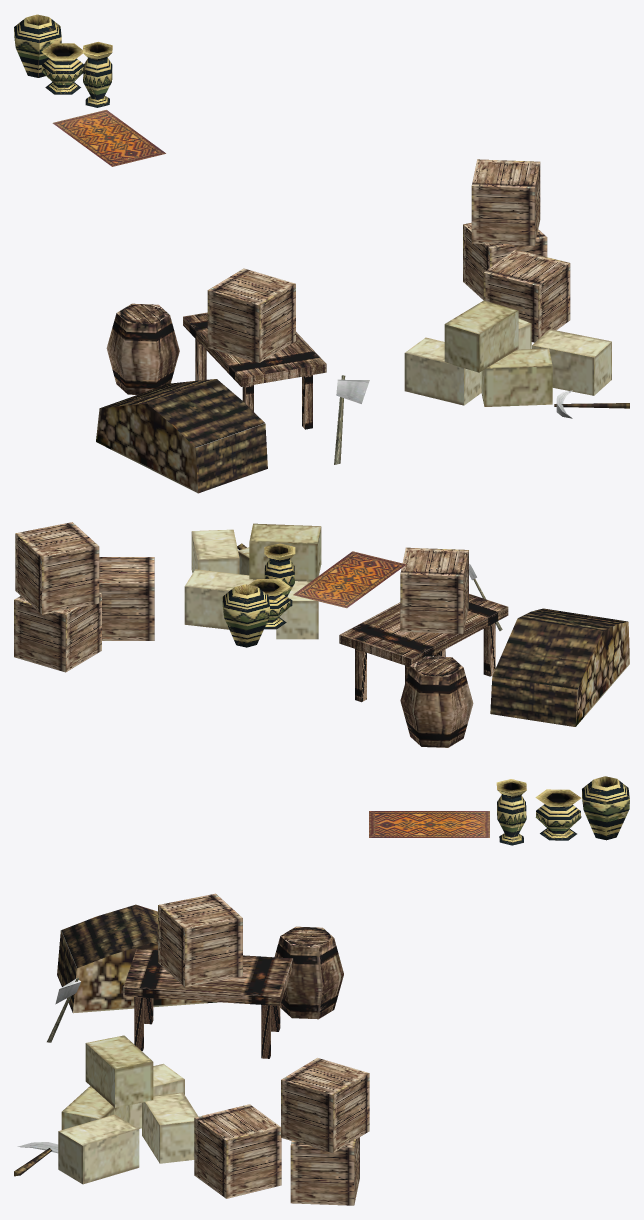
File: kart_storehouse_a.dae
The picture shows the model from 3 angles, top to bottom: view 1: azimuth 30°, elevation 25°; view 2: azimuth 150°, elevation 25°; view 3: azimuth 270°, elevation 25°; orthographic projection.
Parts seen in each view (by area): view 1: axe03; view 2: axe03; view 3: axe03.
Boxes of the visible parts, x1=… form: axe03: x1=14, y1=14, x2=629, y2=493; axe03: x1=14, y1=522, x2=629, y2=747; axe03: x1=14, y1=776, x2=629, y2=1205.
Size of the model in its own units: 13.74 by 14.47 by 6.54.
